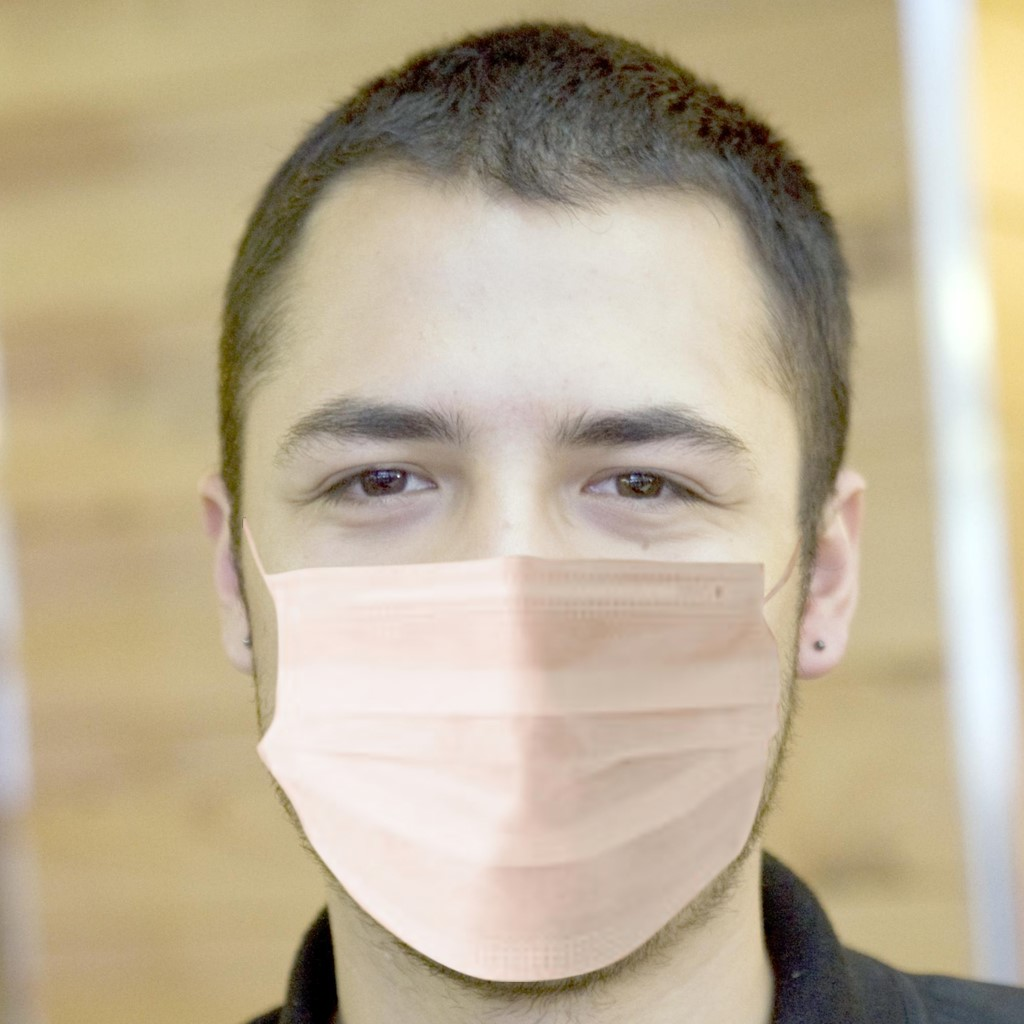con_mascara: (218, 123, 825, 988)
